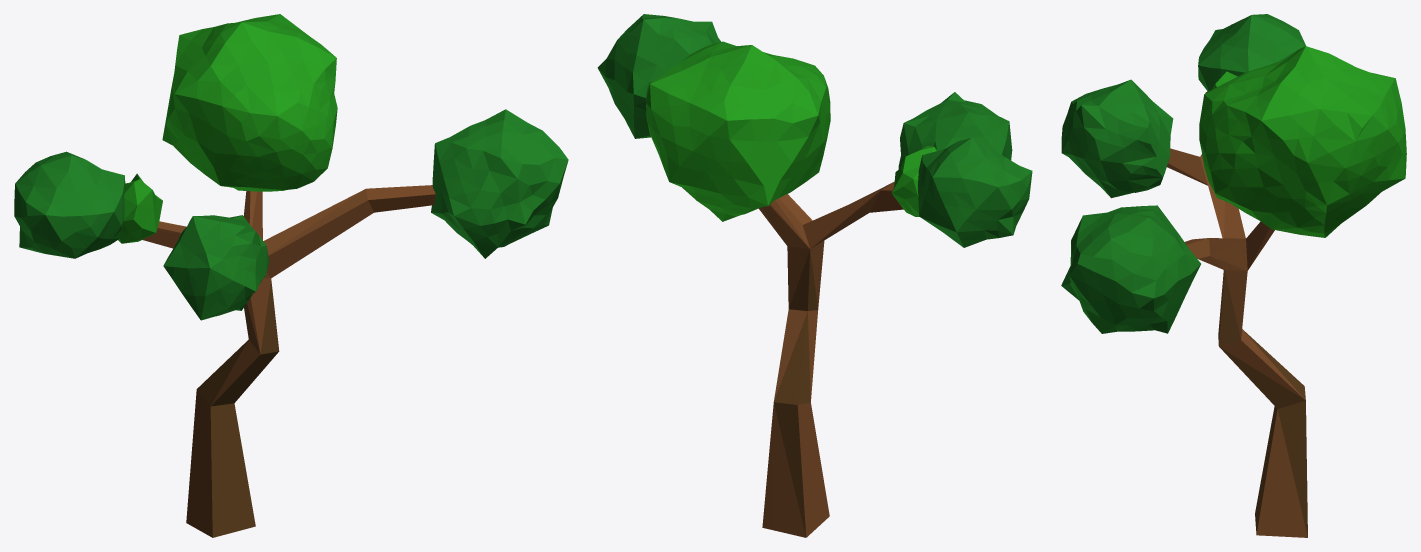
File: tree.fbx
The picture shows the model from 3 angles, left to right: view 1: azimuth 30°, elevation 25°; view 2: azimuth 150°, elevation 25°; view 3: azimuth 270°, elevation 25°; orthographic projection. The views are drawn at different scales.
Visible parts, largest first — view 1: tree.001; view 2: tree.001; view 3: tree.001.
Boxes of the visible parts, <box> form: tree.001: <box>14,14,568,537</box>; tree.001: <box>597,14,1032,537</box>; tree.001: <box>1061,14,1406,537</box>.
Size of the model in its own units: 183 by 178 by 112.
